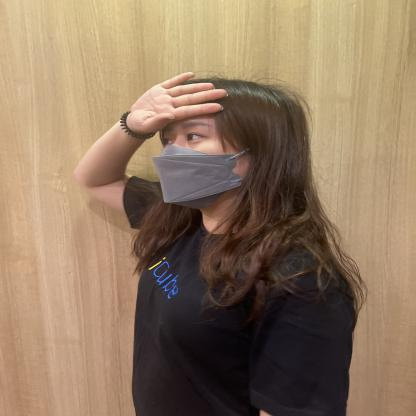Sick: (73, 52, 250, 142)
